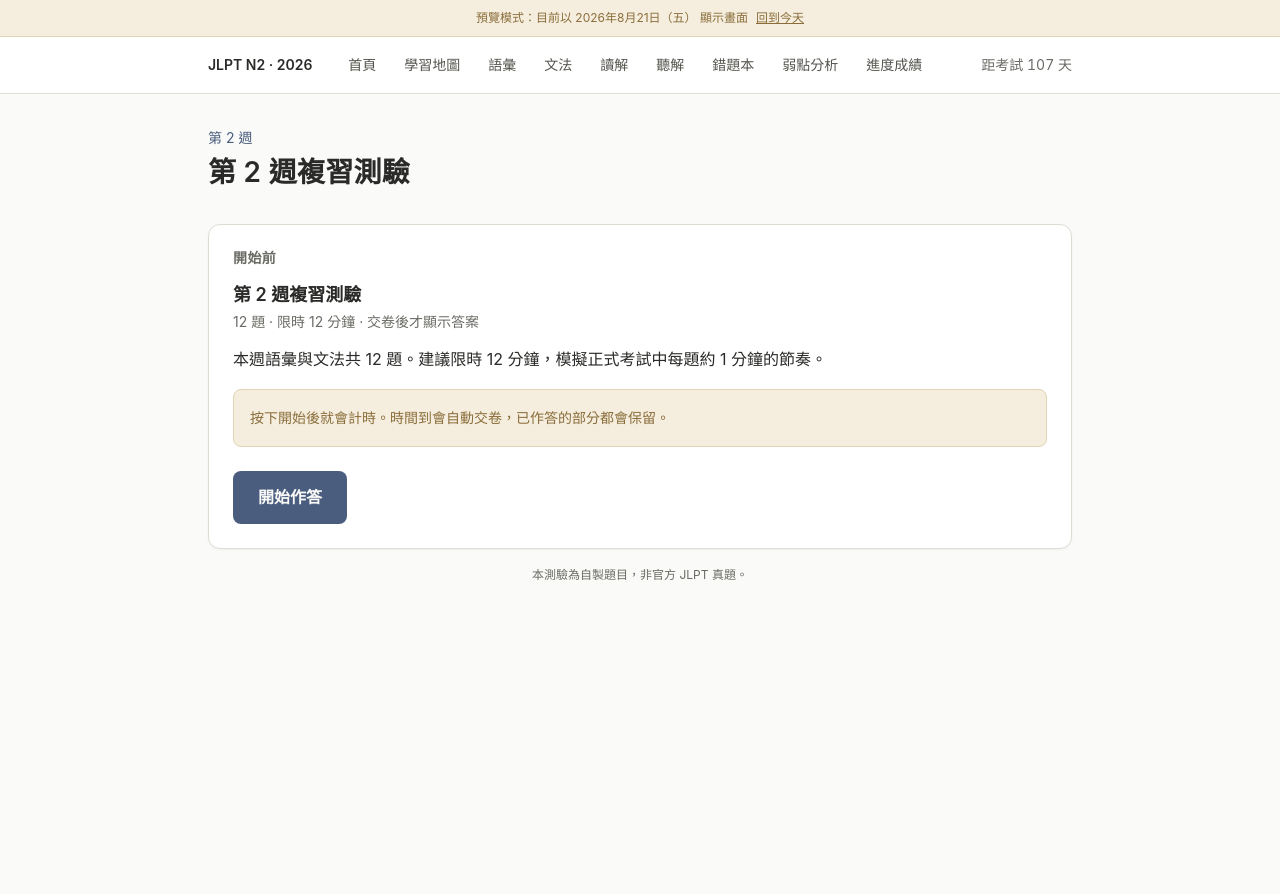
Test case: 測驗作答流程 › 選擇答案後可以前後換題，選擇會保留
This screenshot has width=1280, height=894.
Click the button "開始作答". click: (290, 498)
box: [233, 471, 347, 524]
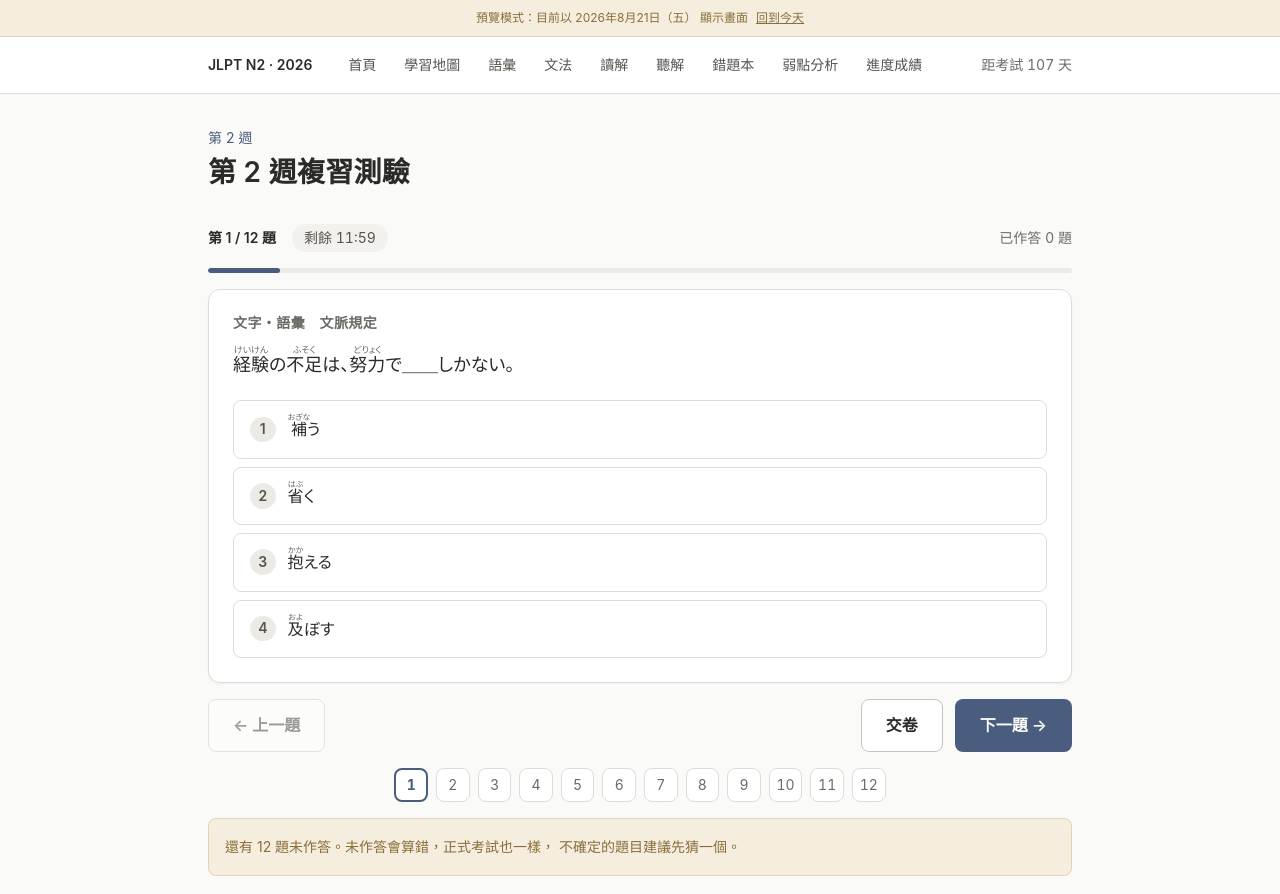
Click the button "1 補 おぎな う". click: (263, 429)
box: [233, 400, 1047, 459]
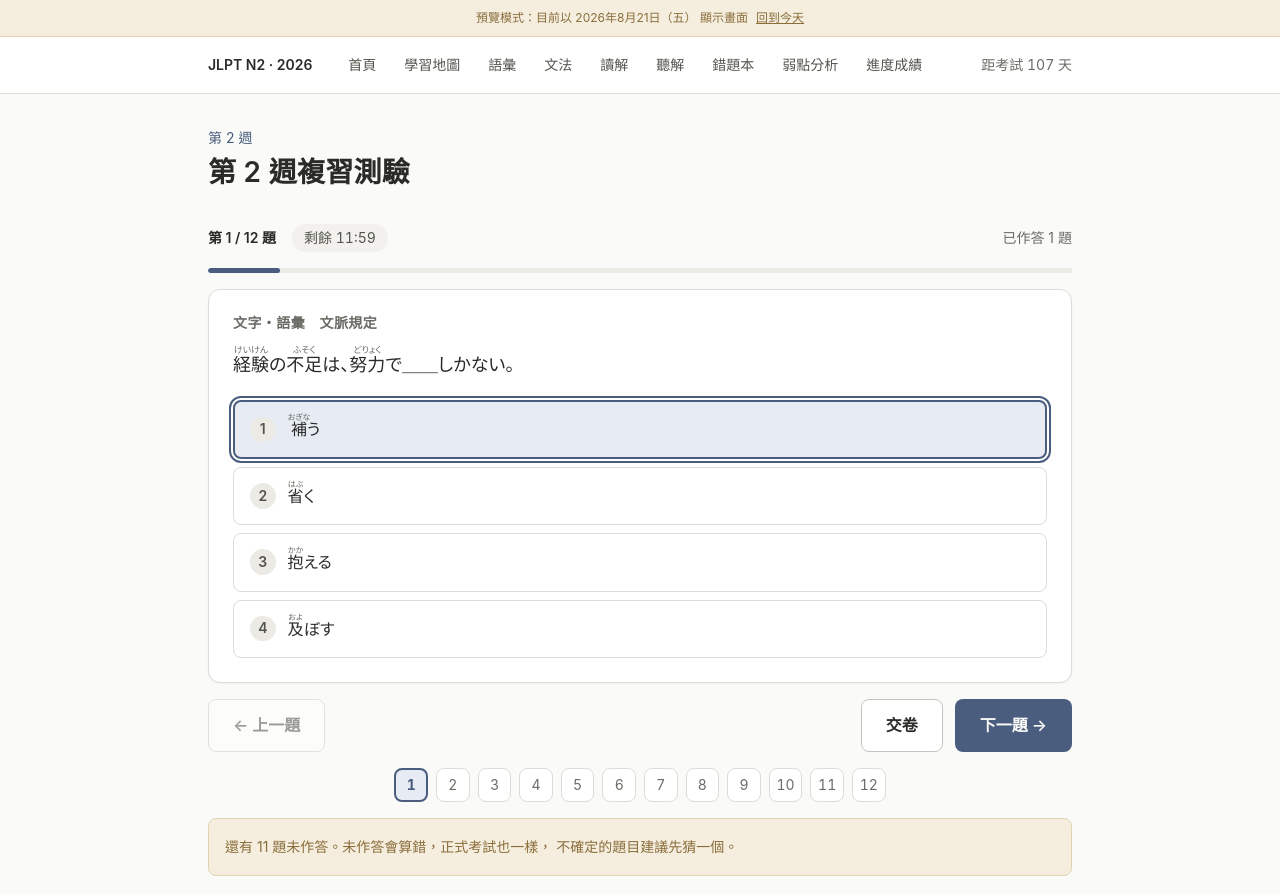
Now the text "已作答 1 題" is shown, box [1002, 226, 1072, 250]
Click the button "下一題 →". click: (1013, 726)
box: [955, 699, 1072, 752]
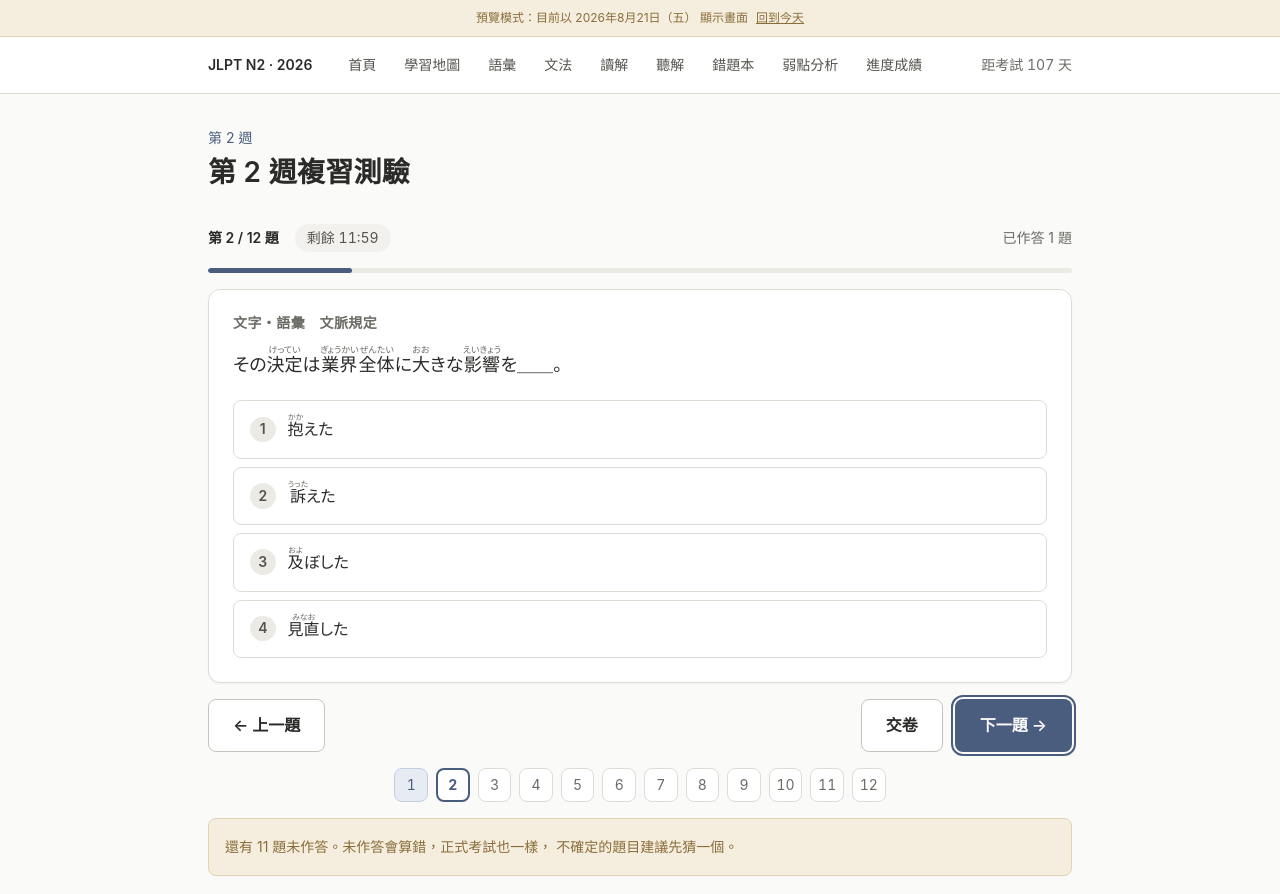
Now the text "第 2 / 12 題" is shown, box [208, 226, 279, 250]
Click the button "← 上一題". click: (267, 726)
box: [208, 699, 325, 752]
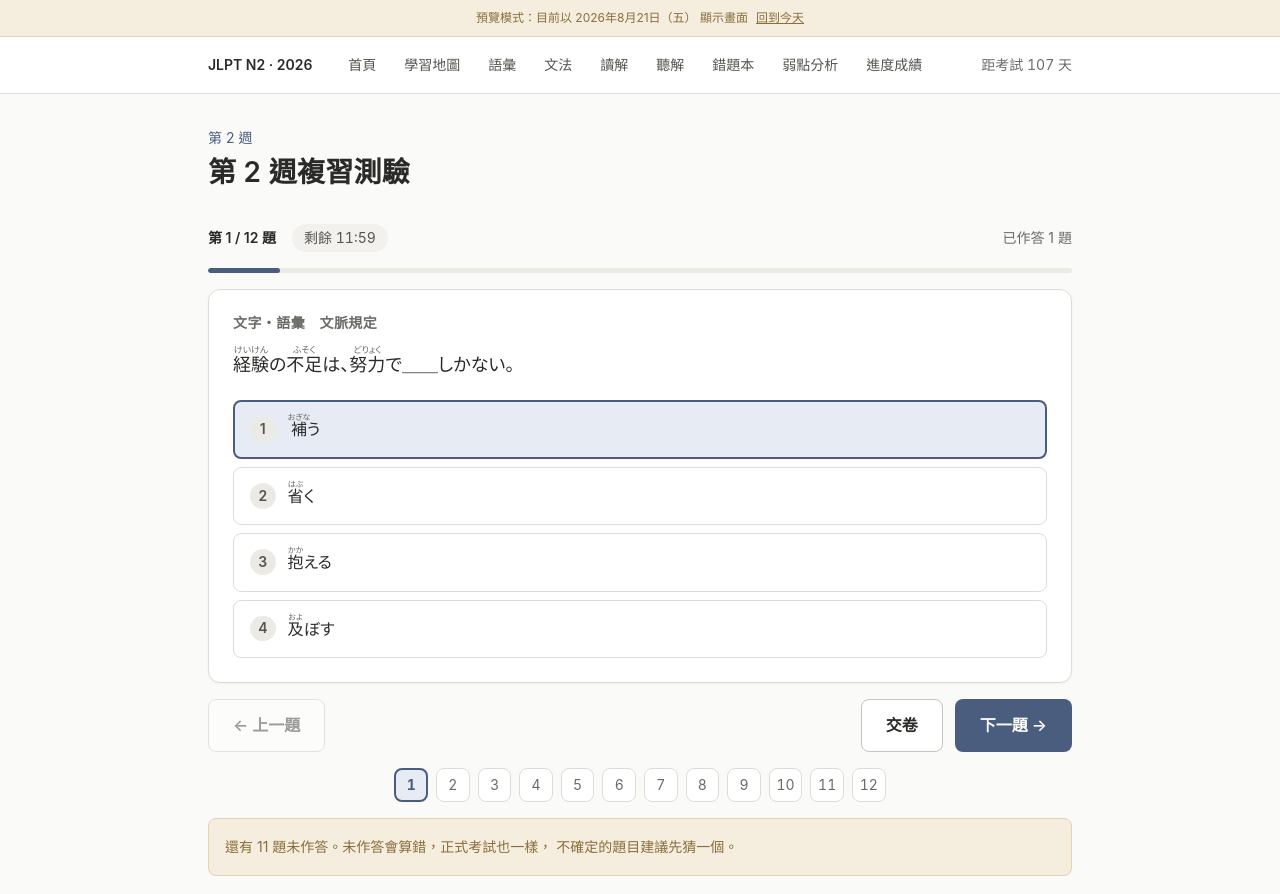
Now the text "第 1 / 12 題" is shown, box [208, 226, 276, 250]
